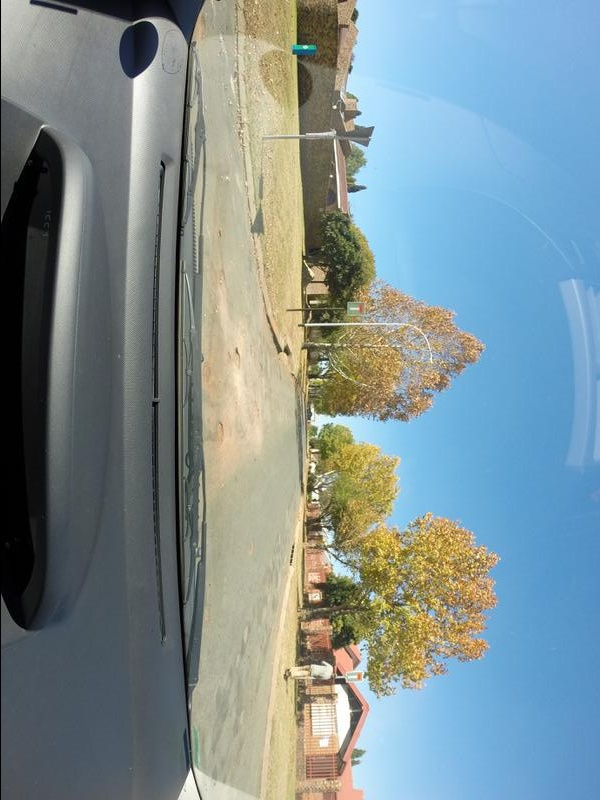pothole: (207, 419, 227, 467), (223, 347, 240, 374)
